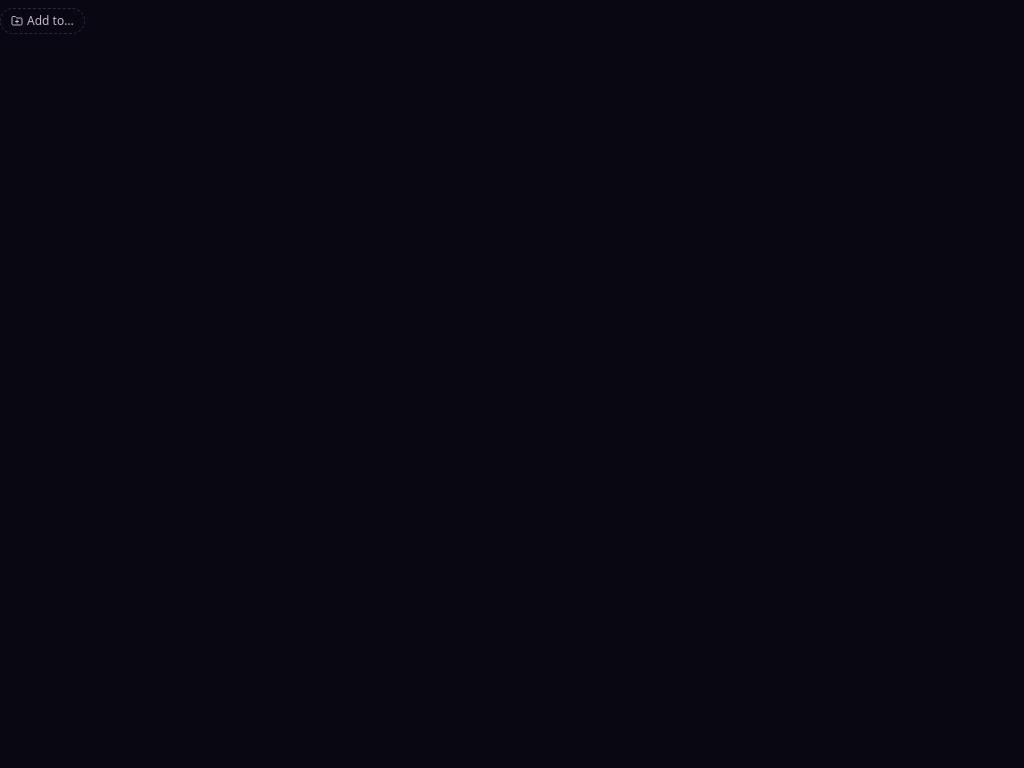
it: DestinationPicker › draws the list outside the capture card, so the card cannot clip it
The image size is (1024, 768).
Click the button "Add to…".
click(42, 21)  # box [0, 8, 85, 34]
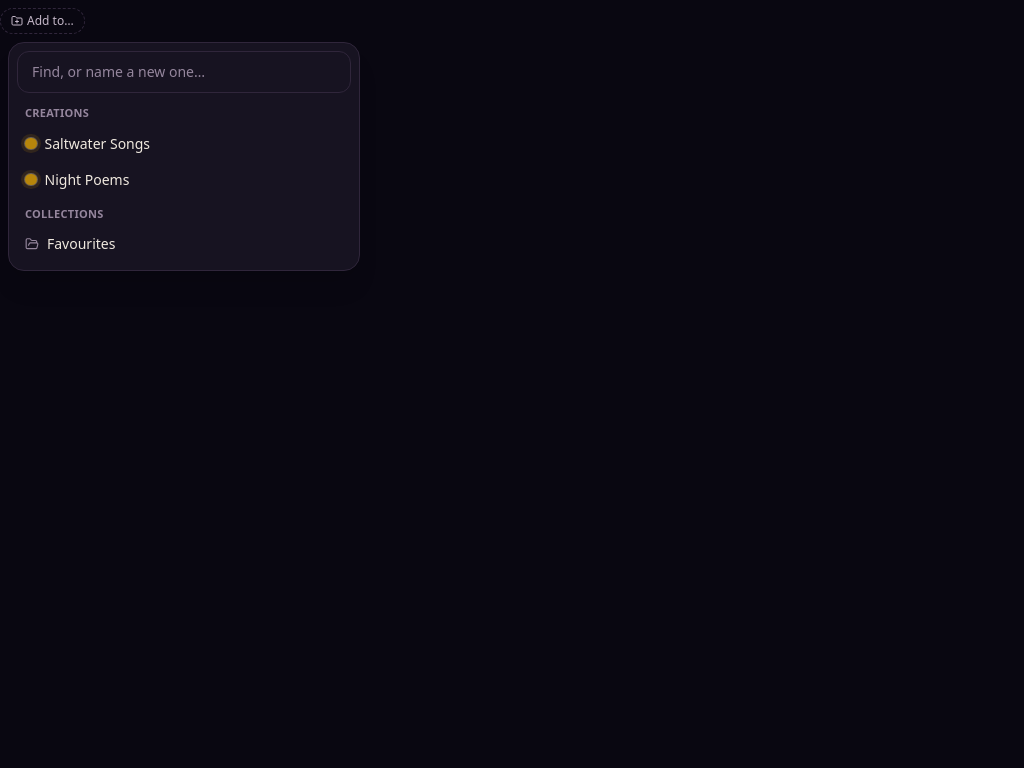
Result: the button "Saltwater Songs" is shown at [17, 126, 351, 162]
Result: the button "Night Poems" is shown at [17, 162, 351, 198]
Result: the button "Favourites" is shown at [17, 226, 351, 262]
